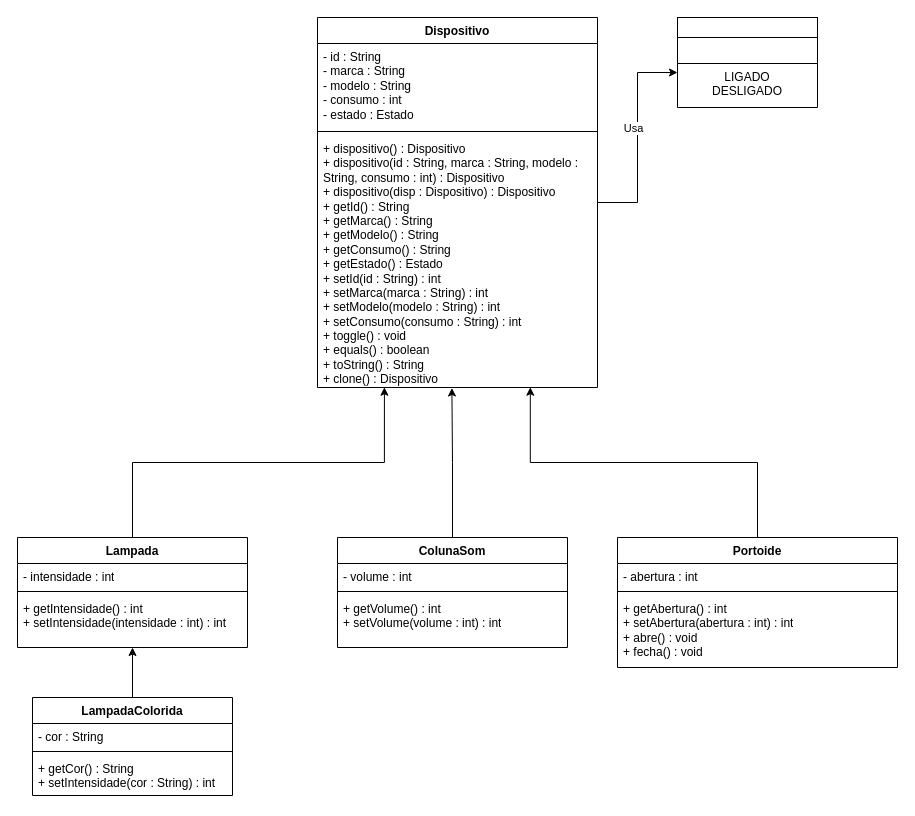
Some shapes in this 915 by 816 pixel diagram are drawn without their labels. Each missing label, with the box of its shape:
*enum*: (676, 16, 818, 38)
Estado: (676, 36, 818, 108)
